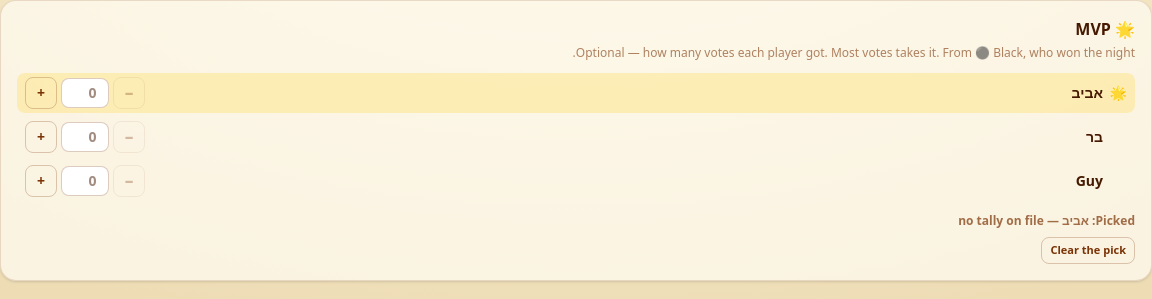
Scenario: MvpPicker › lets a pick with no tally behind it be cleared
This screenshot has width=1152, height=299.
Click the button "Clear the pick" at (1088, 250), box top-left (1042, 237), bottom-right (1135, 264)
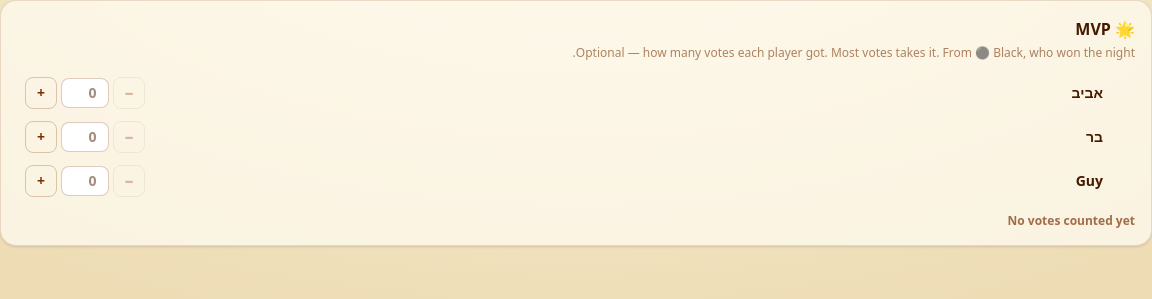
Expected: the text "No votes counted yet" is shown, top-left (1008, 212), bottom-right (1135, 229)
